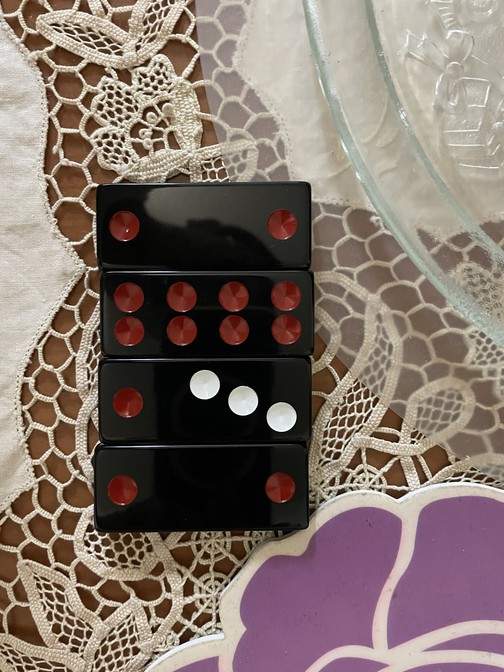earth: (94, 182, 318, 269), (95, 447, 311, 532)
goose: (94, 362, 310, 449)
man: (100, 272, 314, 358)
